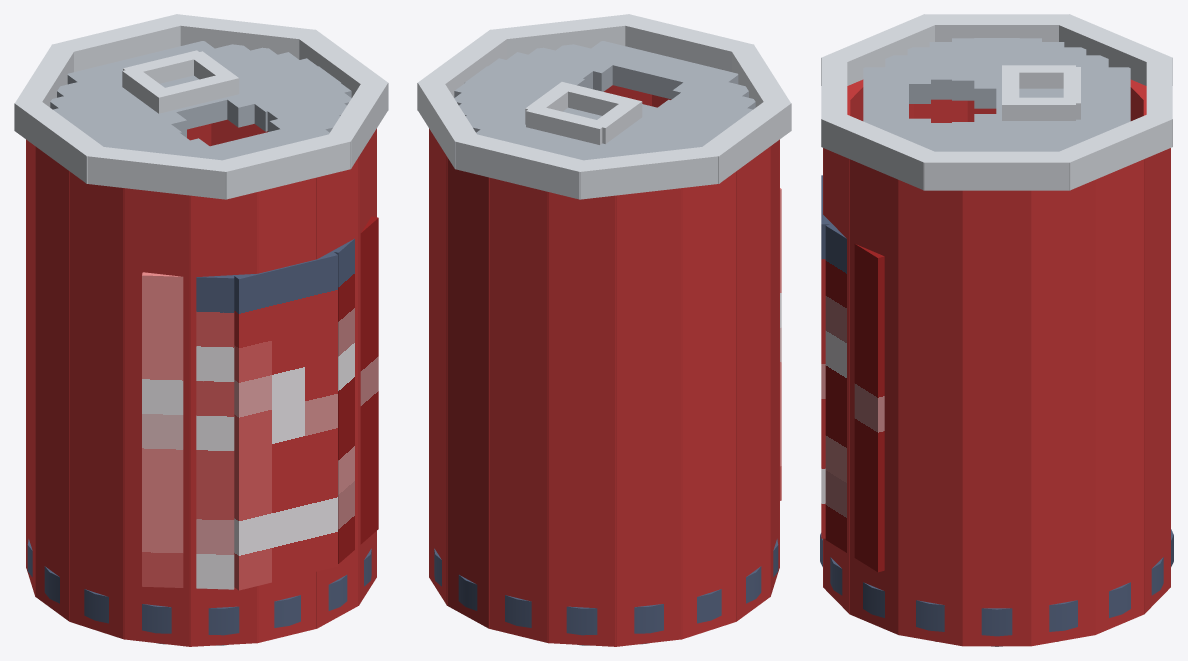
File: CMU3DDrinkColaCanEmptyDrinksExtraCloud.glb
3 renders of one model, left to right at view 1: azimuth 30°, elevation 25°; view 2: azimuth 150°, elevation 25°; view 3: azimuth 270°, elevation 25°, orthographic.
Visible parts, largest first — view 1: source front label tangent 1, source front label tangent 0, hollow printed aluminium body 09, hollow printed aluminium body 10, hollow printed aluminium body 08, source front label tangent 2, hollow printed aluminium body 11, hollow printed aluminium body 12, hollow printed aluminium body 13, raised upper seam 06, raised upper seam 07, rolled bottom seam (+28 smaller); view 2: hollow printed aluminium body 05, hollow printed aluminium body 06, hollow printed aluminium body 04, hollow printed aluminium body 07, hollow printed aluminium body 03, hollow printed aluminium body 08, hollow printed aluminium body 02, raised upper seam 04, raised upper seam 03, rolled bottom seam, hollow printed aluminium body 09, raised upper seam 07 (+26 smaller); view 3: hollow printed aluminium body 00, hollow printed aluminium body 01, hollow printed aluminium body 15, hollow printed aluminium body 02, source front label tangent 2, hollow printed aluminium body 14, hollow printed aluminium body 03, raised upper seam 01, rolled bottom seam, raised upper seam 02, raised upper seam 08, hollow printed aluminium body 13 (+30 smaller).
Boxes of the visible parts, left/top/right/bottom form: source front label tangent 1: left=234, top=251, right=337, bottom=590; source front label tangent 0: left=142, top=272, right=234, bottom=589; hollow printed aluminium body 09: left=69, top=171, right=124, bottom=639; hollow printed aluminium body 10: left=123, top=188, right=190, bottom=646; hollow printed aluminium body 08: left=35, top=146, right=69, bottom=621; source front label tangent 2: left=332, top=216, right=378, bottom=563; hollow printed aluminium body 11: left=189, top=192, right=258, bottom=646; hollow printed aluminium body 12: left=257, top=177, right=317, bottom=643; hollow printed aluminium body 13: left=316, top=156, right=359, bottom=628; raised upper seam 06: left=86, top=145, right=232, bottom=199; raised upper seam 07: left=213, top=132, right=351, bottom=199; rolled bottom seam: left=27, top=539, right=371, bottom=635; hollow printed aluminium body 05: left=547, top=192, right=616, bottom=646; hollow printed aluminium body 06: left=615, top=188, right=682, bottom=646; hollow printed aluminium body 04: left=488, top=177, right=548, bottom=643; hollow printed aluminium body 07: left=681, top=171, right=736, bottom=639; hollow printed aluminium body 03: left=446, top=156, right=489, bottom=628; hollow printed aluminium body 08: left=736, top=146, right=770, bottom=621; hollow printed aluminium body 02: left=429, top=128, right=447, bottom=605; raised upper seam 04: left=578, top=145, right=719, bottom=199; raised upper seam 03: left=454, top=132, right=592, bottom=199; rolled bottom seam: left=434, top=539, right=778, bottom=635; hollow printed aluminium body 09: left=770, top=140, right=779, bottom=596; raised upper seam 07: left=617, top=14, right=753, bottom=71; hollow printed aluminium body 00: left=962, top=190, right=1031, bottom=646; hollow printed aluminium body 01: left=1031, top=179, right=1095, bottom=646; hollow printed aluminium body 15: left=898, top=179, right=962, bottom=646; hollow printed aluminium body 02: left=1095, top=159, right=1144, bottom=634; source front label tangent 2: left=825, top=224, right=884, bottom=572; hollow printed aluminium body 14: left=849, top=159, right=898, bottom=634; hollow printed aluminium body 03: left=1144, top=148, right=1170, bottom=614; raised upper seam 01: left=923, top=151, right=1070, bottom=190; rolled bottom seam: left=820, top=529, right=1173, bottom=636; raised upper seam 02: left=1060, top=111, right=1172, bottom=190; raised upper seam 08: left=821, top=112, right=933, bottom=190; hollow printed aluminium body 13: left=823, top=148, right=849, bottom=614.
Size of what is drawn, in the model's own units: 0.287 by 0.4425 by 0.287.
Materials: 8 (3 with a texture image).
